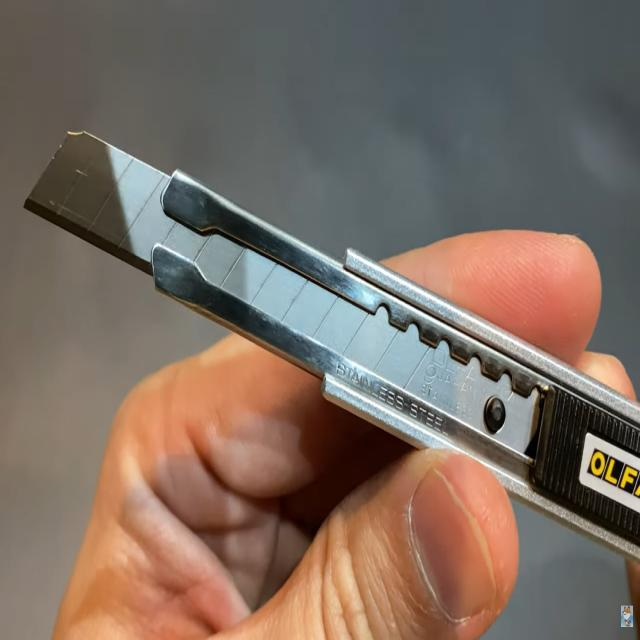cutter: (4, 62, 640, 604)
